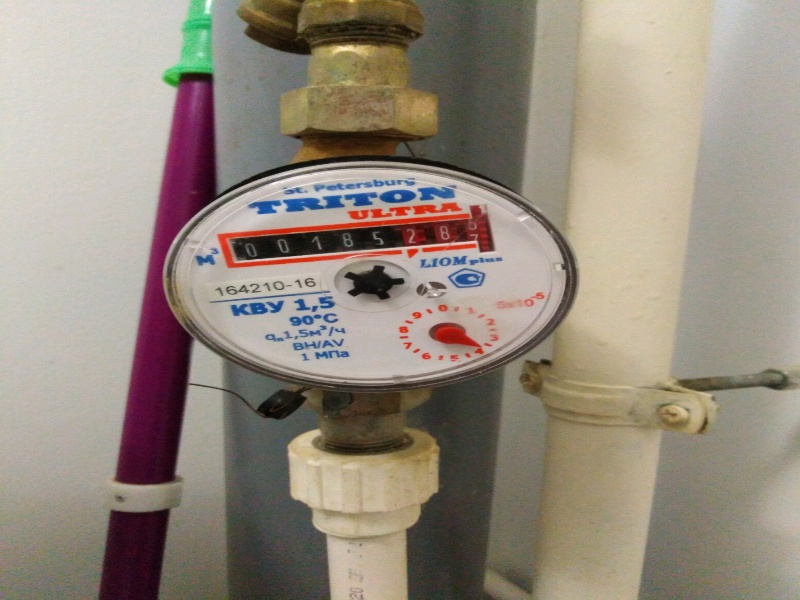meter: (225, 224, 492, 255)
